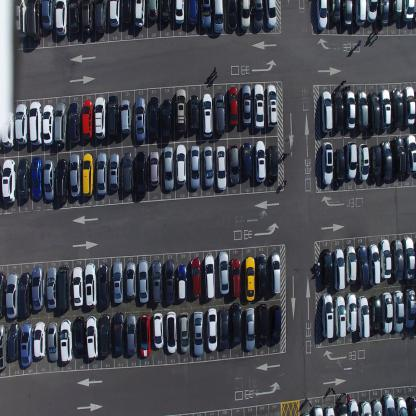car: (355, 243, 370, 287), (2, 158, 16, 204), (31, 264, 45, 310), (12, 0, 28, 40), (402, 236, 416, 281), (54, 102, 68, 146), (57, 263, 70, 310), (20, 320, 33, 367), (69, 152, 82, 198), (29, 100, 42, 146), (321, 293, 334, 339), (84, 262, 97, 308), (18, 271, 31, 317), (14, 102, 28, 144), (121, 151, 134, 196), (56, 157, 69, 202), (151, 259, 164, 304), (175, 87, 187, 135), (134, 150, 146, 198), (392, 135, 406, 176), (320, 141, 333, 185), (357, 294, 370, 338), (333, 246, 346, 290), (60, 319, 73, 363), (215, 144, 227, 191), (201, 92, 213, 139), (27, 0, 41, 40), (68, 101, 81, 144), (203, 254, 215, 300), (192, 310, 204, 356), (86, 315, 98, 361), (6, 272, 18, 318), (43, 158, 56, 200), (42, 103, 55, 145), (320, 90, 333, 132), (379, 238, 392, 280), (368, 243, 381, 285), (148, 96, 160, 141), (134, 96, 146, 141), (82, 152, 94, 197), (334, 293, 346, 338), (218, 250, 230, 295), (98, 263, 110, 308), (113, 311, 125, 356), (47, 321, 60, 362), (160, 98, 172, 142), (107, 94, 119, 138), (163, 144, 174, 192), (254, 139, 266, 183), (94, 96, 106, 140), (31, 156, 43, 200), (17, 158, 29, 202), (392, 289, 404, 333), (206, 308, 218, 352), (165, 310, 177, 354), (99, 313, 111, 357), (46, 266, 58, 310), (403, 86, 416, 126), (33, 320, 46, 360), (54, 0, 68, 37), (164, 258, 175, 305), (175, 143, 187, 186), (356, 89, 368, 132), (190, 256, 202, 299), (139, 314, 151, 357), (126, 313, 138, 356), (369, 144, 382, 183), (253, 82, 264, 128), (256, 252, 267, 298), (244, 256, 255, 302), (82, 98, 94, 140), (381, 291, 393, 333), (257, 303, 269, 345), (72, 266, 84, 308), (266, 83, 277, 128), (96, 151, 107, 196), (7, 322, 20, 360), (391, 87, 403, 128), (404, 134, 416, 175), (381, 140, 393, 181), (404, 288, 416, 329), (392, 239, 404, 280), (203, 144, 214, 188), (228, 142, 239, 186), (214, 91, 225, 135), (270, 252, 281, 296), (244, 308, 255, 352), (231, 302, 242, 346), (138, 260, 149, 304), (113, 260, 124, 304), (95, 0, 108, 37), (188, 94, 200, 134), (344, 90, 356, 130), (345, 140, 357, 180), (369, 295, 381, 335), (322, 247, 334, 287), (368, 91, 379, 134), (74, 315, 85, 358), (345, 245, 357, 284), (227, 84, 238, 126), (315, 0, 329, 33), (380, 88, 391, 130), (346, 291, 357, 333), (179, 311, 190, 353), (120, 97, 132, 135), (2, 110, 14, 148), (357, 143, 369, 181), (124, 262, 136, 300), (267, 143, 278, 184), (190, 145, 200, 190), (152, 312, 164, 349), (333, 90, 344, 130), (334, 147, 345, 187), (219, 307, 229, 351), (241, 83, 251, 126), (109, 152, 120, 191), (68, 0, 80, 35), (82, 0, 94, 35), (149, 149, 160, 187), (241, 142, 252, 179), (41, 0, 54, 31), (0, 322, 8, 371), (264, 0, 277, 30), (176, 263, 186, 301), (231, 257, 240, 299), (213, 0, 224, 34), (200, 0, 212, 31), (239, 0, 251, 30), (252, 0, 263, 32), (271, 306, 280, 345), (341, 0, 353, 29), (186, 0, 199, 26), (328, 0, 340, 26), (354, 0, 366, 26), (378, 0, 390, 26), (147, 0, 161, 22), (121, 0, 133, 25), (227, 0, 237, 30), (109, 0, 120, 27), (134, 0, 145, 27), (0, 271, 6, 319), (382, 393, 395, 415), (160, 0, 172, 23), (366, 0, 378, 23), (402, 0, 414, 22), (390, 0, 403, 20), (395, 395, 408, 415), (174, 0, 185, 23), (347, 397, 360, 415), (359, 400, 372, 416), (406, 395, 416, 415), (370, 400, 382, 416), (335, 400, 347, 416), (312, 404, 324, 415), (324, 404, 335, 415), (412, 0, 416, 23), (0, 165, 2, 206), (301, 409, 311, 415)
